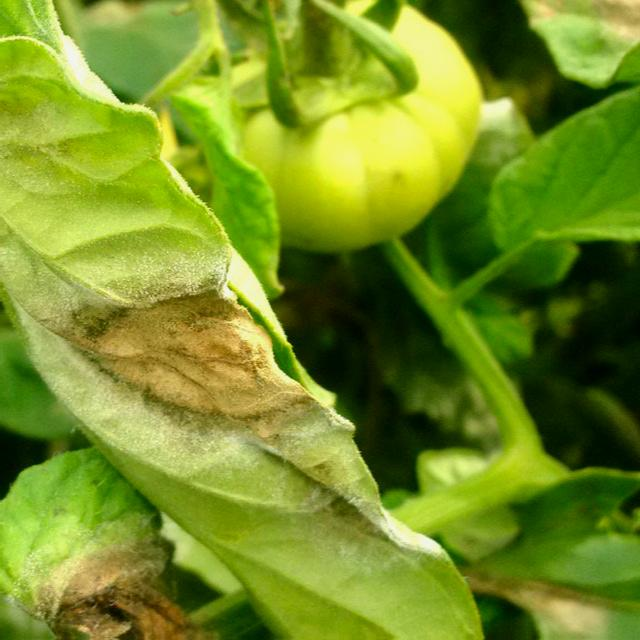Tomato leaf late blight: (0, 0, 522, 640), (0, 448, 288, 640)
